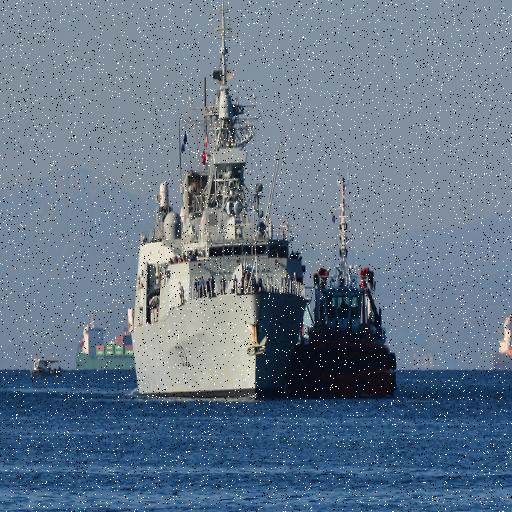Fragata: (124, 1, 313, 407)
